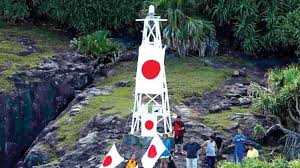Japanese Flag: (134, 44, 167, 97), (141, 135, 170, 167), (96, 144, 123, 168), (140, 112, 161, 136)
